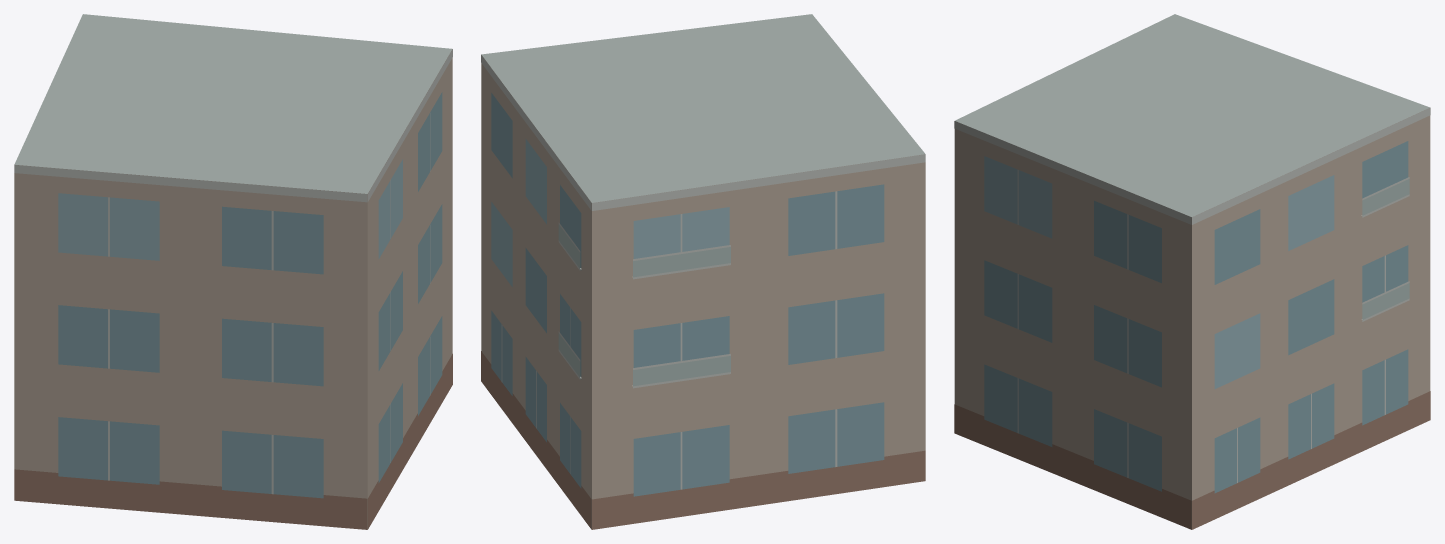
Rendered from survey-upis-32725976.glb.
3 renders of one model, left to right at view 1: azimuth 30°, elevation 25°; view 2: azimuth 150°, elevation 25°; view 3: azimuth 270°, elevation 25°, orthographic. The views are drawn at different scales.
Visible parts, largest first — view 1: survey-upis-32725976.tmp; view 2: survey-upis-32725976.tmp; view 3: survey-upis-32725976.tmp.
Boxes of the visible parts, x1,y1,x2,y2 form: survey-upis-32725976.tmp: (14,14,452,529); survey-upis-32725976.tmp: (481,14,925,529); survey-upis-32725976.tmp: (954,14,1430,529).
Bounding box in the file's own units: 13.67 × 9.8 × 13.53.
